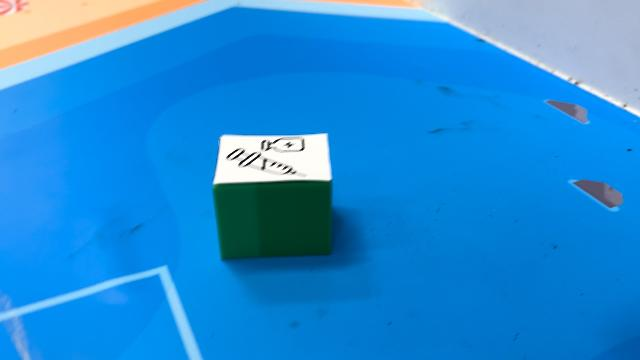syringe: (212, 134, 336, 262)
